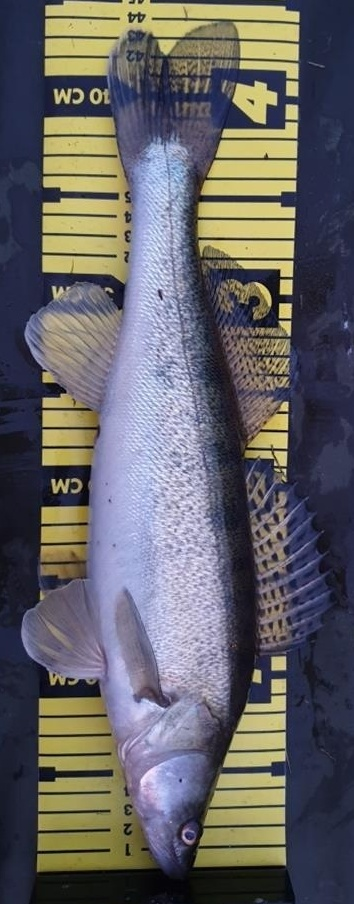Sander lucioperca: (20, 20, 334, 884)
